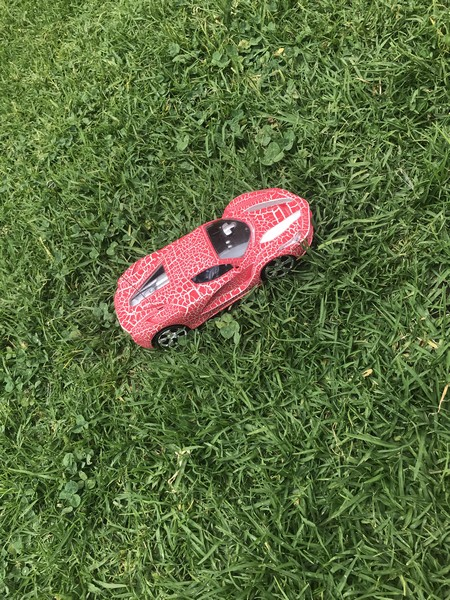RC: (110, 187, 316, 354)
